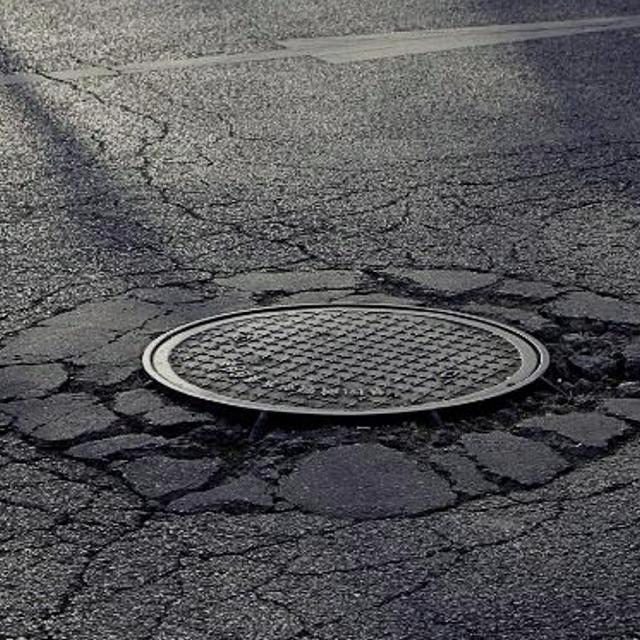circle: (0, 235, 640, 548)
